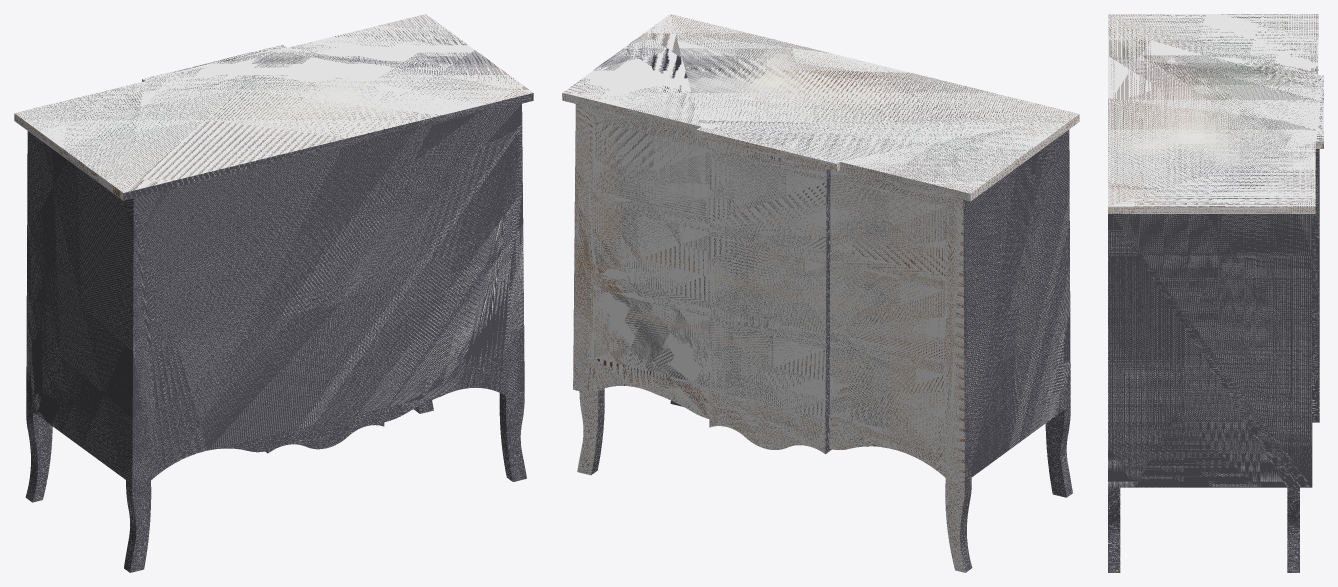
3 views of the same model, side by side, from view 1: azimuth 30°, elevation 25°; view 2: azimuth 150°, elevation 25°; view 3: azimuth 270°, elevation 25° (orthographic). The views are drawn at different scales.
Parts seen in each view (by area): view 1: mesh3_mesh3-geometry, mesh2_mesh2-geometry, mesh1_mesh1-geometry; view 2: mesh3_mesh3-geometry, mesh2_mesh2-geometry; view 3: mesh3_mesh3-geometry, mesh1_mesh1-geometry.
Boxes of the visible parts, bbox=[...] form: mesh3_mesh3-geometry: bbox=[14, 14, 533, 502]; mesh2_mesh2-geometry: bbox=[124, 480, 151, 572]; mesh1_mesh1-geometry: bbox=[499, 391, 526, 481]; mesh3_mesh3-geometry: bbox=[562, 14, 1079, 572]; mesh2_mesh2-geometry: bbox=[1045, 405, 1072, 497]; mesh3_mesh3-geometry: bbox=[1108, 14, 1323, 572]; mesh1_mesh1-geometry: bbox=[1108, 487, 1120, 572].
Size of the model in its own units: 0.7027 by 0.6288 by 0.3329.
